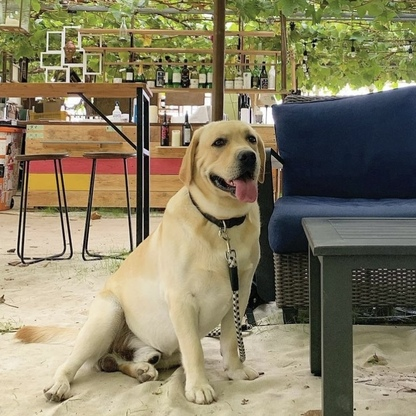labrado: (41, 115, 271, 406)
